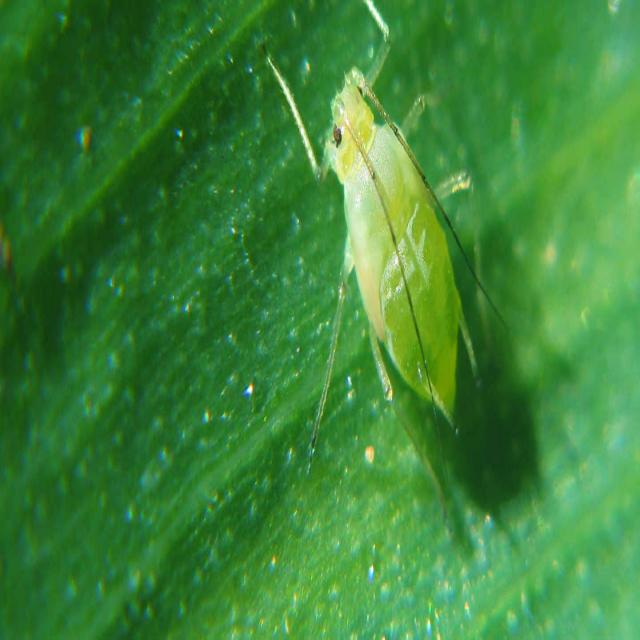Aphid-Grown-: (274, 18, 516, 462)
